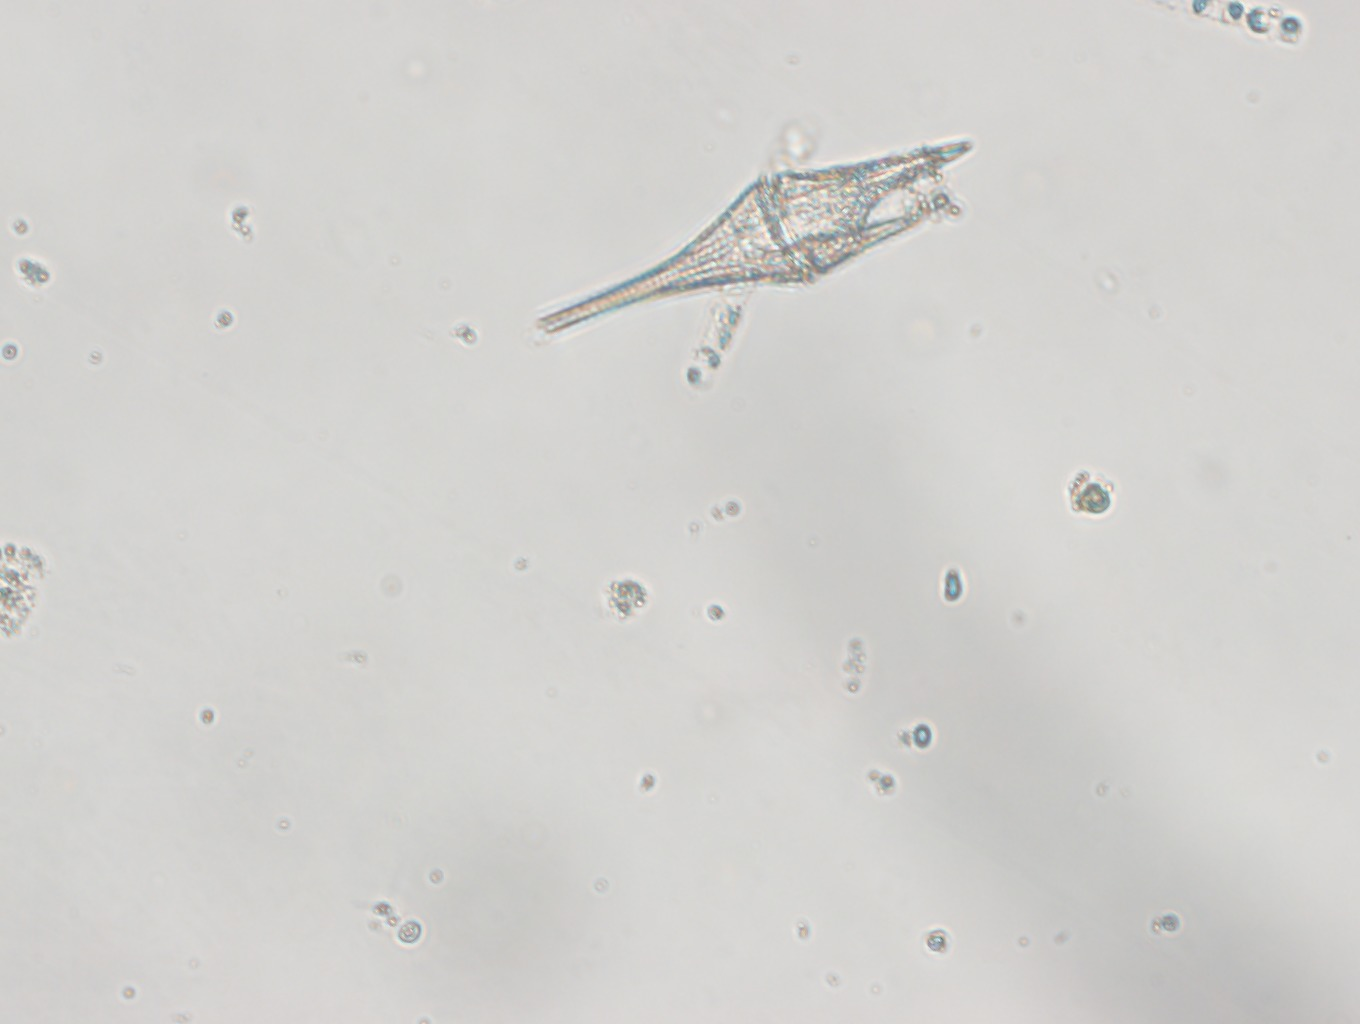ceratium furca: (532, 136, 973, 338)
